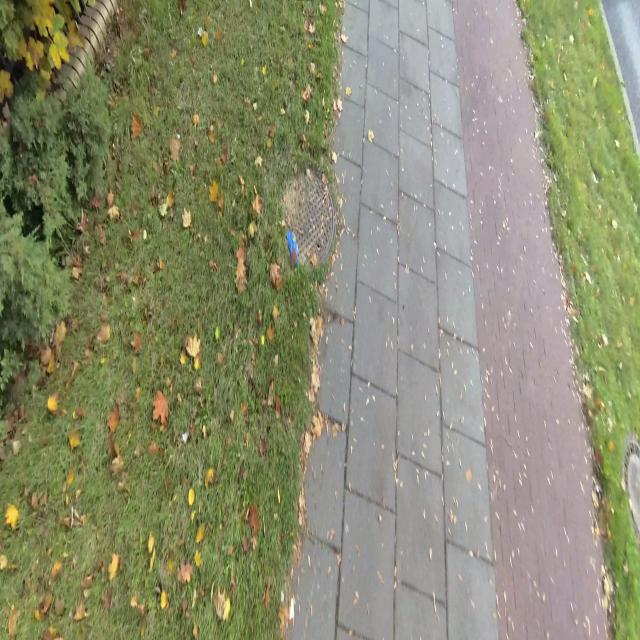rubbish: (285, 230, 300, 270)
